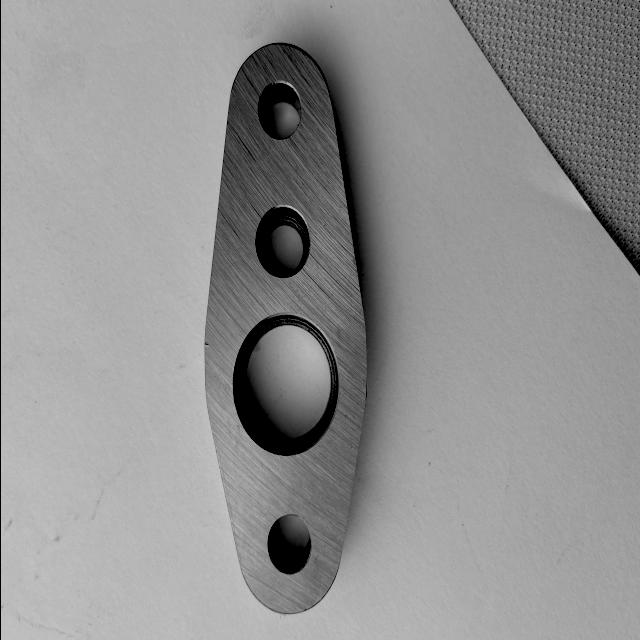chap: (203, 341, 210, 348)
